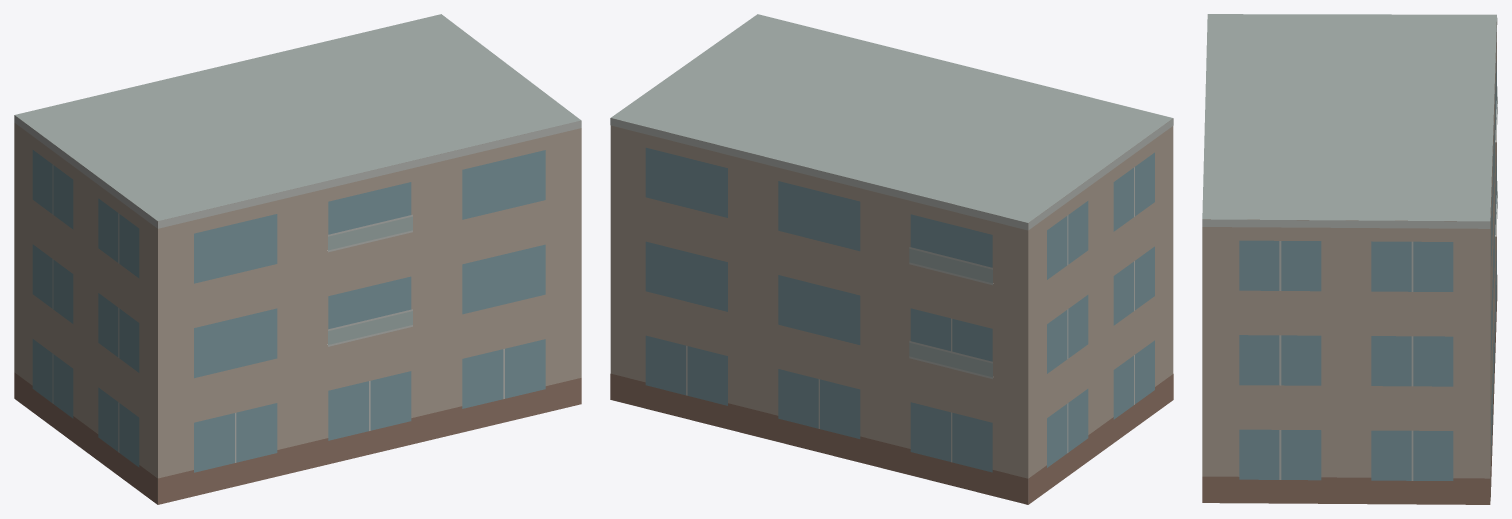
File: survey-upis-32745609.glb
The picture shows the model from 3 angles, left to right: view 1: azimuth 30°, elevation 25°; view 2: azimuth 150°, elevation 25°; view 3: azimuth 270°, elevation 25°; orthographic projection.
Visible parts, largest first — view 1: survey-upis-32745609.tmp; view 2: survey-upis-32745609.tmp; view 3: survey-upis-32745609.tmp.
Part boxes in pixels (left/top/right/bottom): survey-upis-32745609.tmp: left=14, top=14, right=581, bottom=504; survey-upis-32745609.tmp: left=610, top=14, right=1173, bottom=504; survey-upis-32745609.tmp: left=1202, top=14, right=1497, bottom=504.
Bounding box in the file's own units: 14.36 × 9.15 × 8.65.
